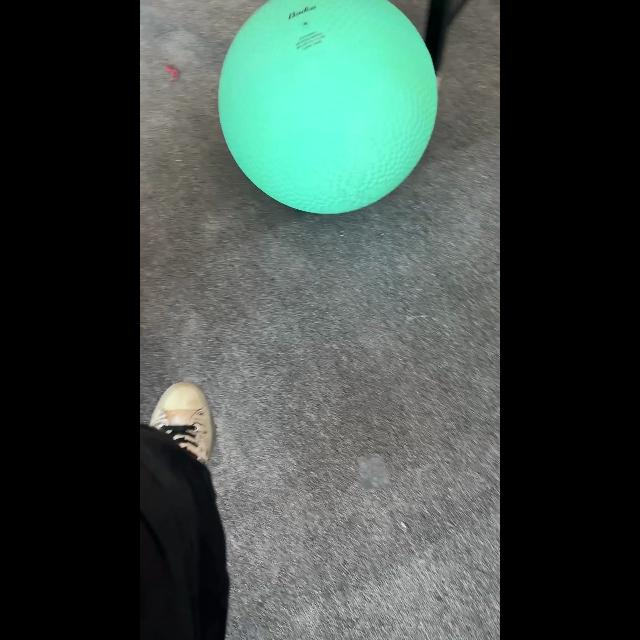ALGAE: (217, 1, 438, 216)
